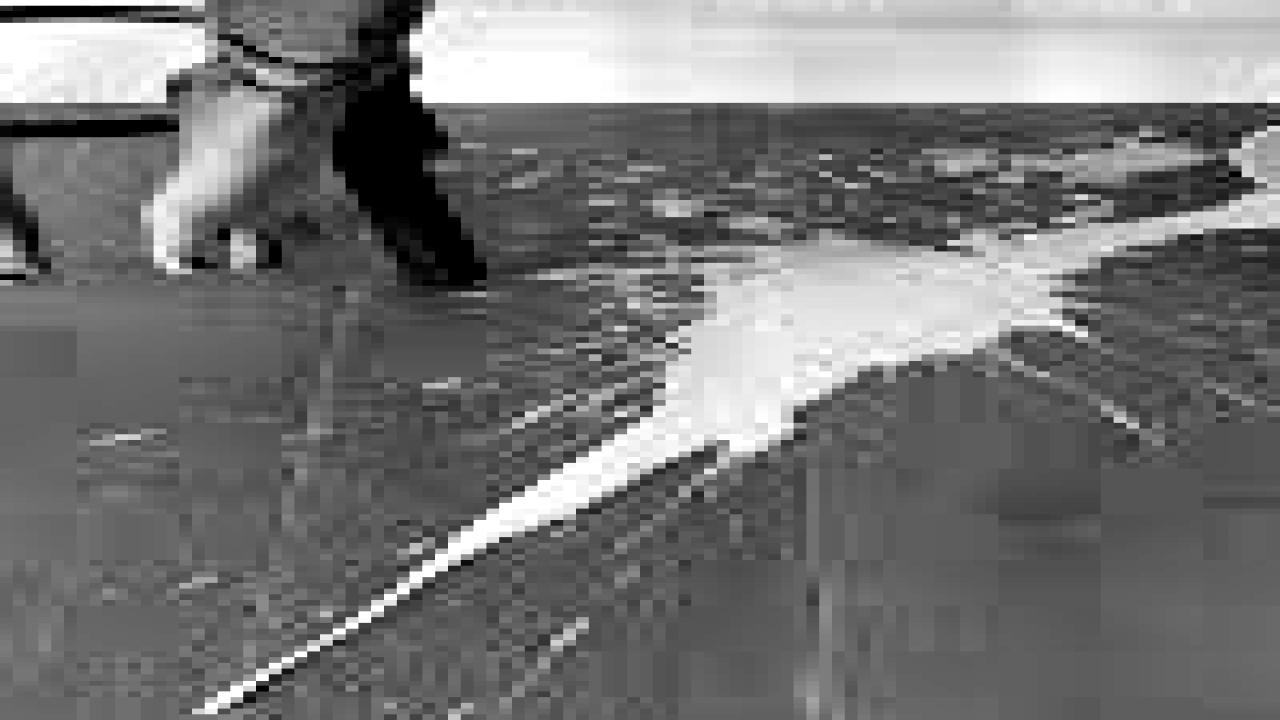Water Stains: (512, 108, 1203, 720)
